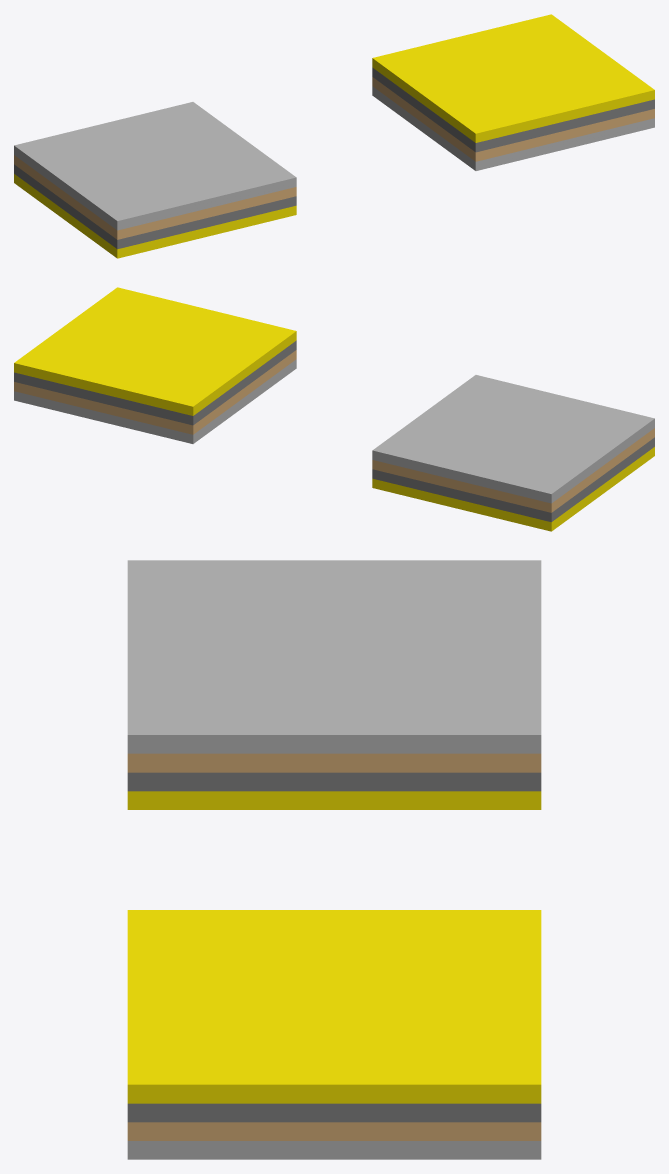
The model's file is board.glb.
3 renders of one model, top to bottom at view 1: azimuth 30°, elevation 25°; view 2: azimuth 150°, elevation 25°; view 3: azimuth 270°, elevation 25°, orthographic. The views are drawn at different scales.
Visible parts, largest first — view 1: Stack2_Top, Stack1_UltraTop, Stack1_Middle, Stack1_Base, Stack1_Top, Stack2_Base, Stack2_Middle1, Stack2_Middle2; view 2: Stack2_Top, Stack1_UltraTop, Stack1_Middle, Stack1_Base, Stack1_Top, Stack2_Base, Stack2_Middle1, Stack2_Middle2; view 3: Stack1_UltraTop, Stack2_Top, Stack1_Top, Stack1_Middle, Stack2_Middle2, Stack1_Base, Stack2_Base, Stack2_Middle1.
Boxes of the visible parts, x1,y1,x2,y2 form: Stack2_Top: (372, 14, 654, 142); Stack1_UltraTop: (14, 102, 296, 230); Stack1_Middle: (14, 164, 296, 249); Stack1_Base: (14, 174, 296, 258); Stack1_Top: (14, 155, 296, 239); Stack2_Base: (372, 86, 654, 170); Stack2_Middle1: (372, 77, 654, 161); Stack2_Middle2: (372, 67, 654, 152); Stack2_Top: (14, 287, 296, 415); Stack1_UltraTop: (372, 375, 654, 503); Stack1_Middle: (372, 437, 654, 522); Stack1_Base: (372, 447, 654, 531); Stack1_Top: (372, 428, 654, 512); Stack2_Base: (14, 359, 296, 443); Stack2_Middle1: (14, 350, 296, 434); Stack2_Middle2: (14, 340, 296, 425); Stack1_UltraTop: (127, 560, 541, 753); Stack2_Top: (127, 910, 541, 1103); Stack1_Top: (127, 753, 541, 772); Stack1_Middle: (127, 772, 541, 791); Stack2_Middle2: (127, 1103, 541, 1122); Stack1_Base: (127, 791, 541, 809); Stack2_Base: (127, 1141, 541, 1159); Stack2_Middle1: (127, 1122, 541, 1140).
Size of what is drawn, in the model's own units: 0.03 by 0.002 by 0.01.
